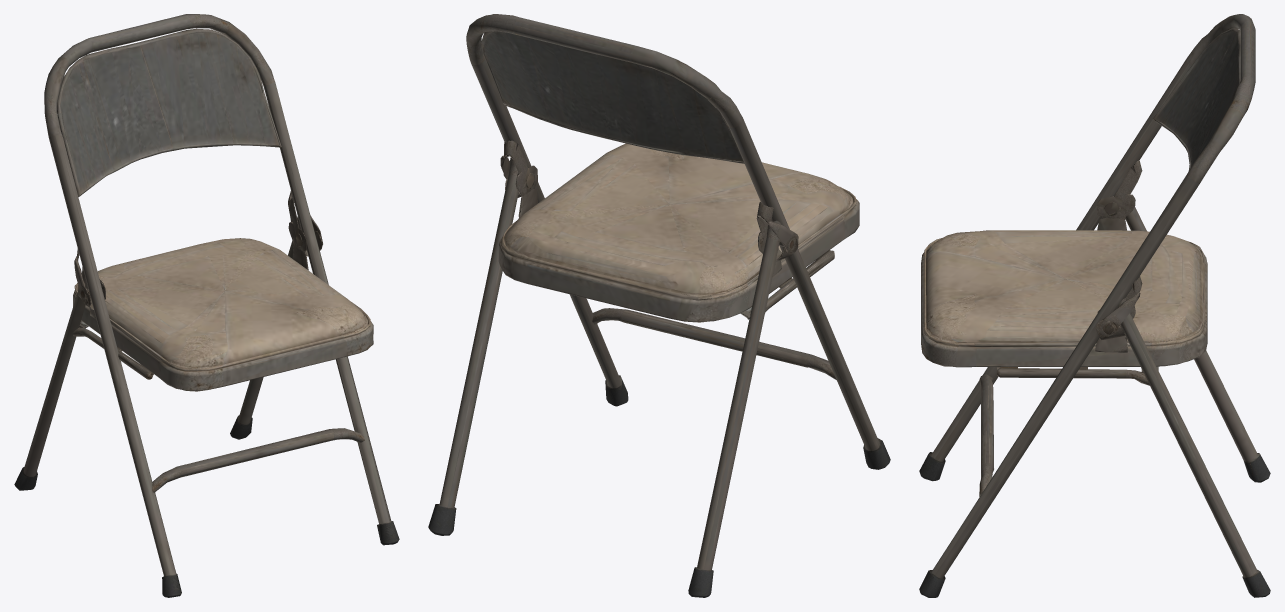
The model's file is p7-folding-chair-t25.glb.
The picture shows the model from 3 angles, left to right: view 1: azimuth 30°, elevation 25°; view 2: azimuth 150°, elevation 25°; view 3: azimuth 270°, elevation 25°; orthographic projection. The views are drawn at different scales.
Parts seen in each view (by area): view 1: p7-folding-chair-t25; view 2: p7-folding-chair-t25; view 3: p7-folding-chair-t25.
Boxes of the visible parts, <box> form: p7-folding-chair-t25: <box>14,14,399,597</box>; p7-folding-chair-t25: <box>428,14,890,597</box>; p7-folding-chair-t25: <box>919,14,1270,597</box>.
Bounding box in the file's own units: 0.45 × 0.8 × 0.52.
Materials: 1 (1 with a texture image).
